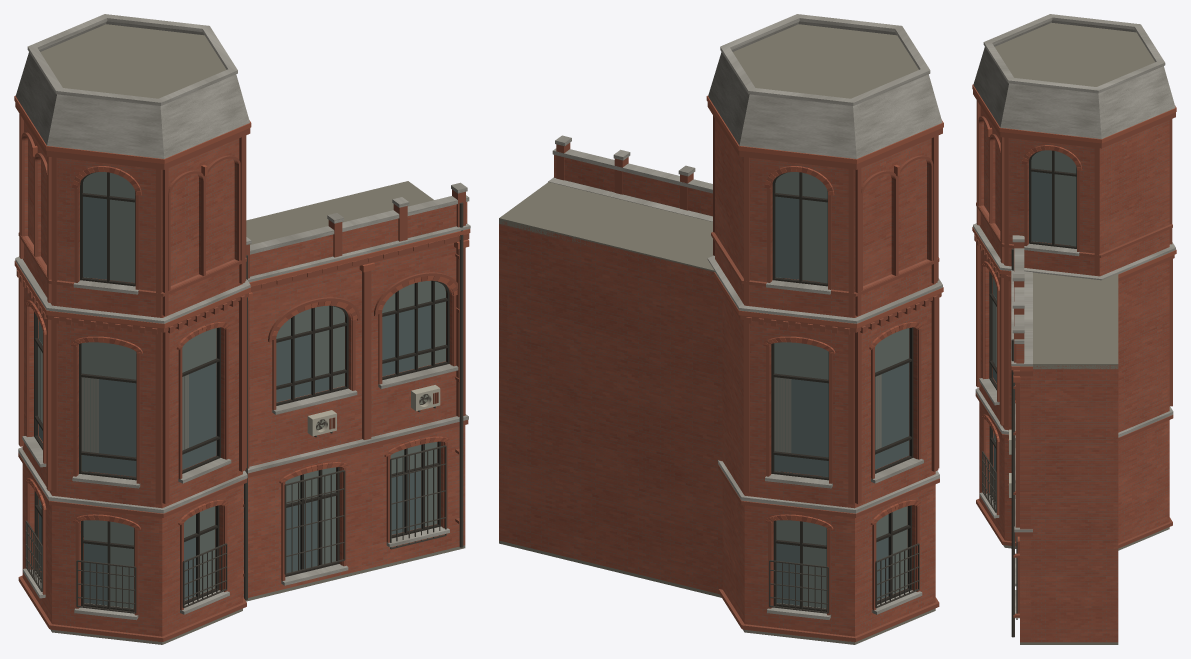
Rendered from jingan-daxin-tobacco-northeast-tower-web.glb.
3 views of the same model, side by side, from view 1: azimuth 30°, elevation 25°; view 2: azimuth 150°, elevation 25°; view 3: azimuth 270°, elevation 25° (orthographic). The views are drawn at different scales.
Parts seen in each view (by area): view 1: 观渡庐东北砖塔与短翼成对拱窗; view 2: 观渡庐东北砖塔与短翼成对拱窗; view 3: 观渡庐东北砖塔与短翼成对拱窗.
Boxes of the visible parts, left/top/right/bottom form: 观渡庐东北砖塔与短翼成对拱窗: left=14, top=14, right=470, bottom=644; 观渡庐东北砖塔与短翼成对拱窗: left=499, top=14, right=943, bottom=644; 观渡庐东北砖塔与短翼成对拱窗: left=972, top=14, right=1176, bottom=644.
Bounding box in the file's own units: 13.41 × 17.12 × 6.81.
Materials: 14 (3 with a texture image).
